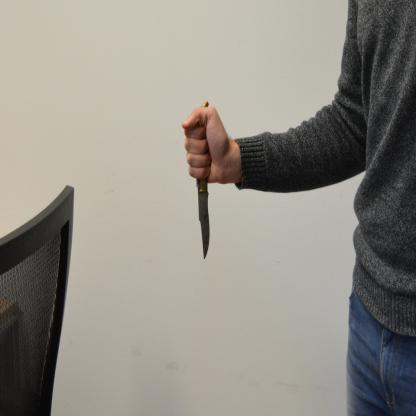knife: (191, 95, 215, 265)
